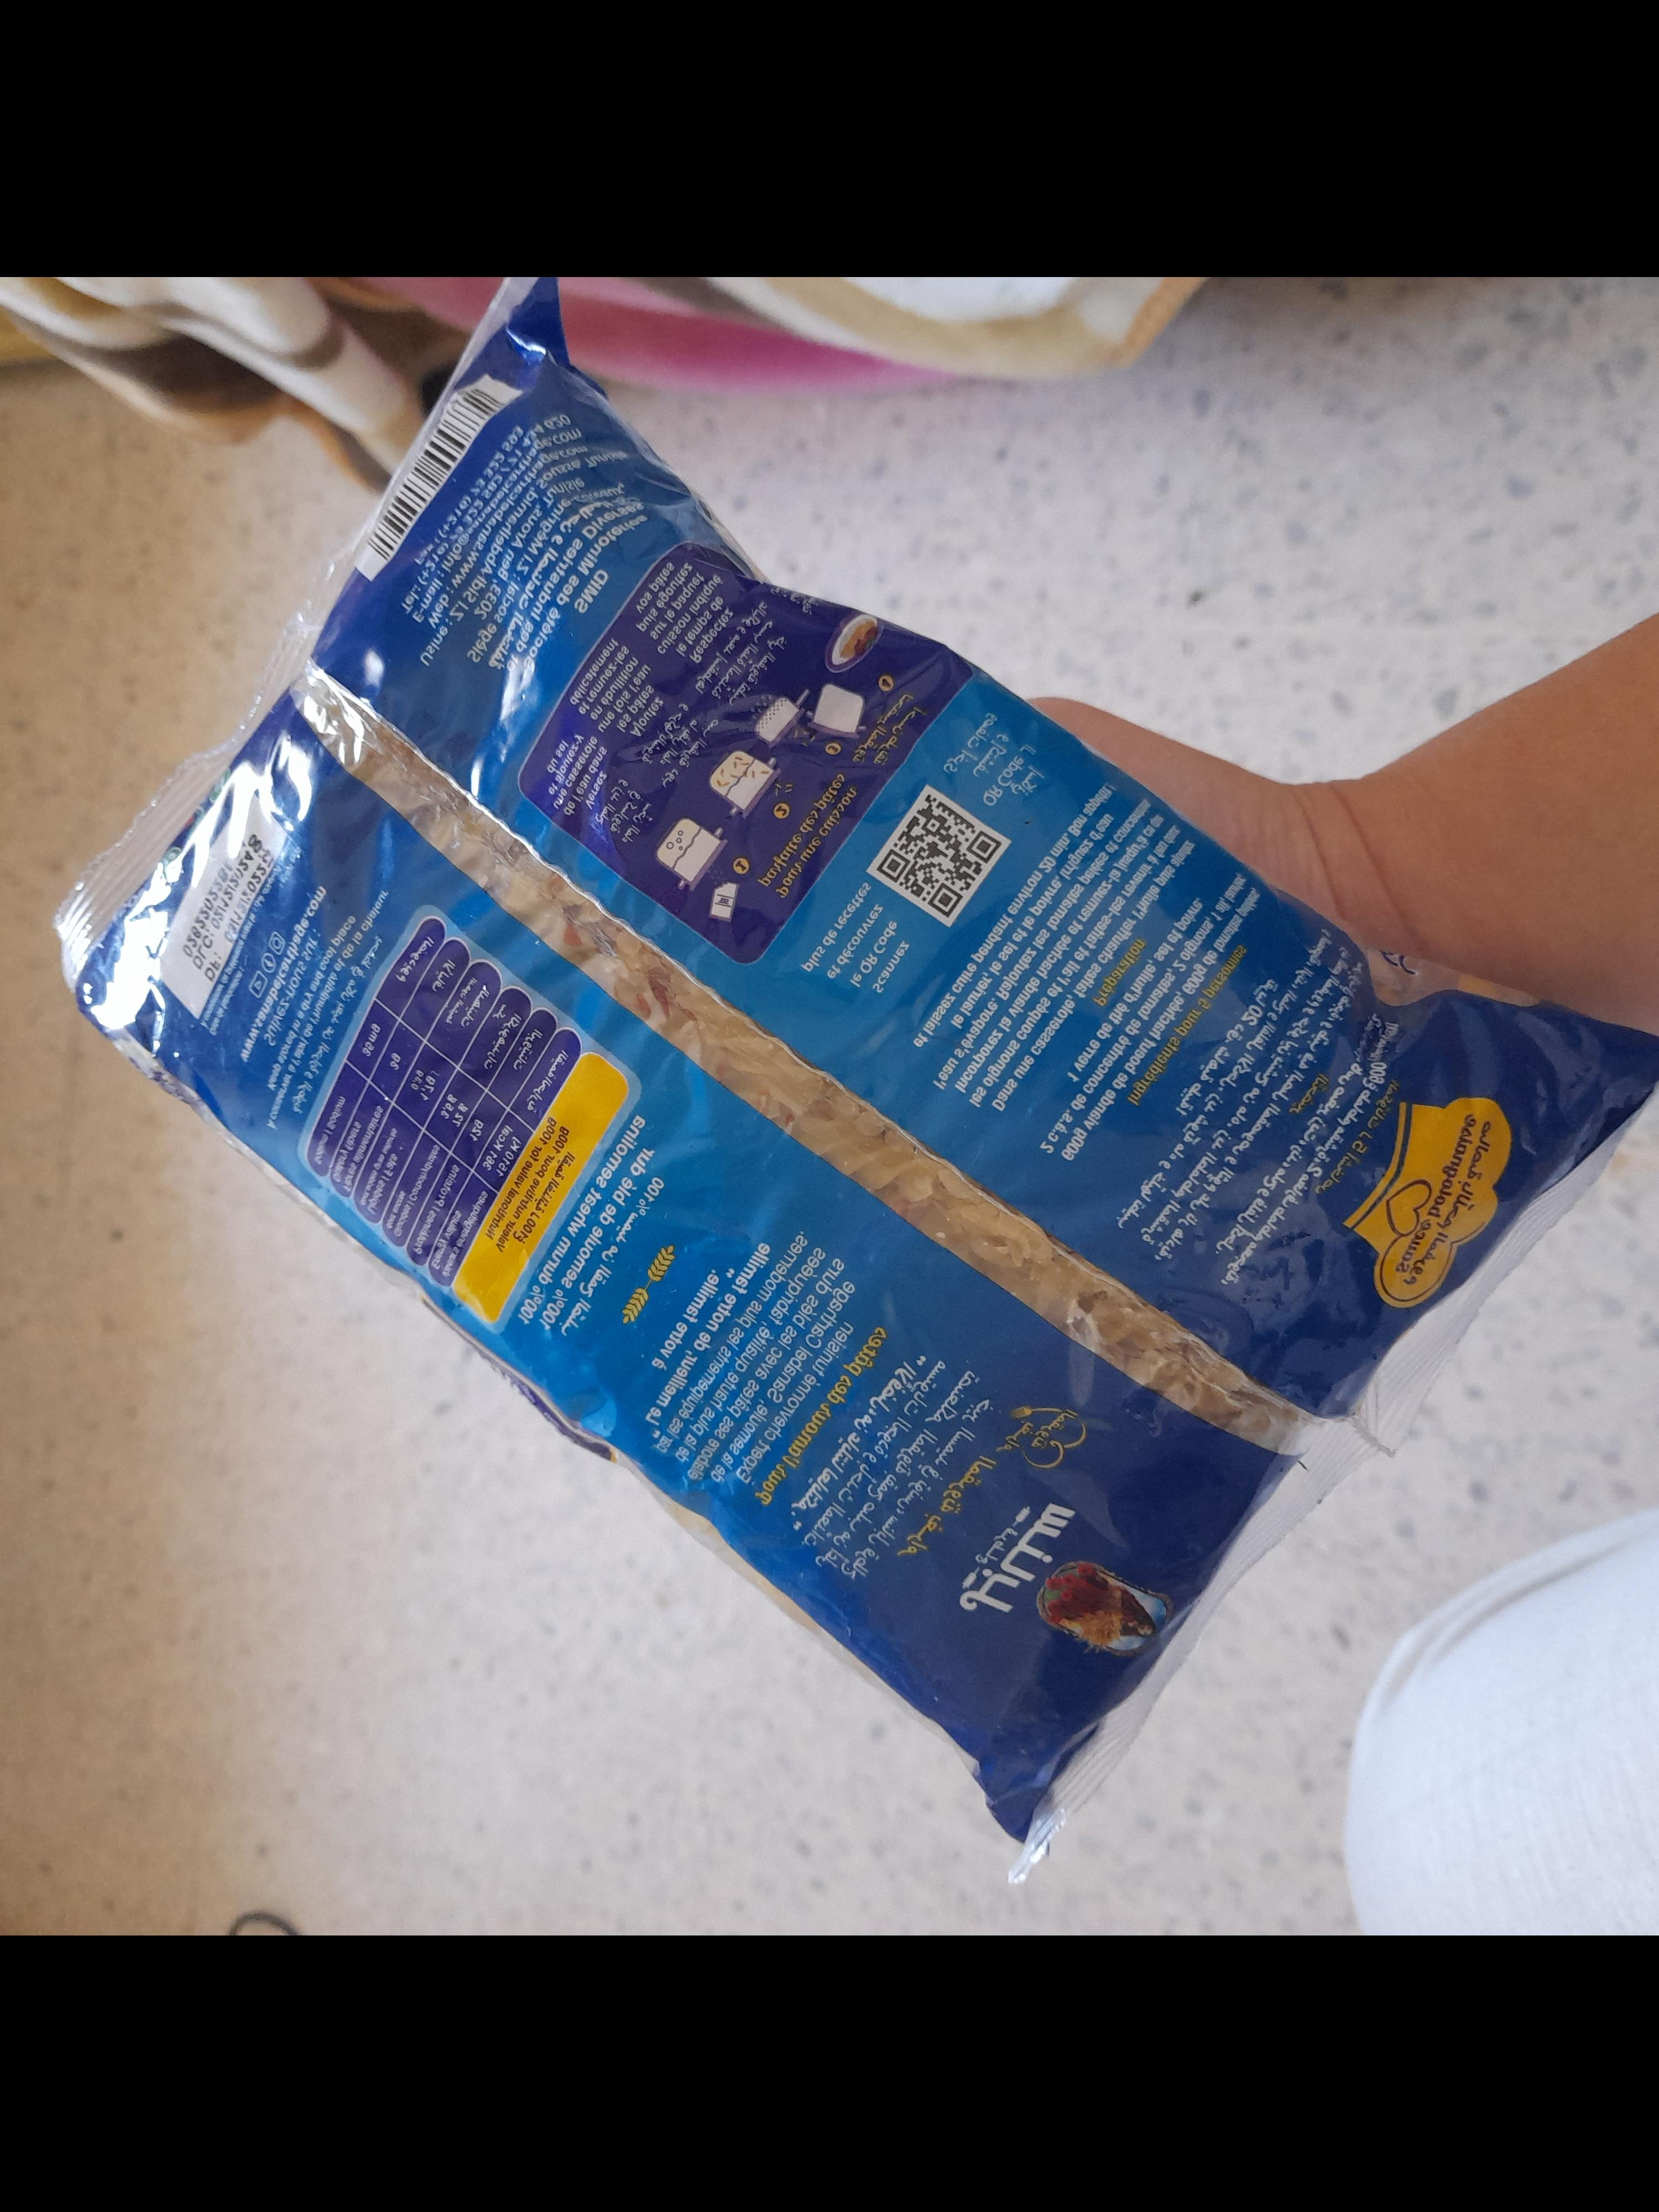Ressort: (0, 314, 573, 1080)
